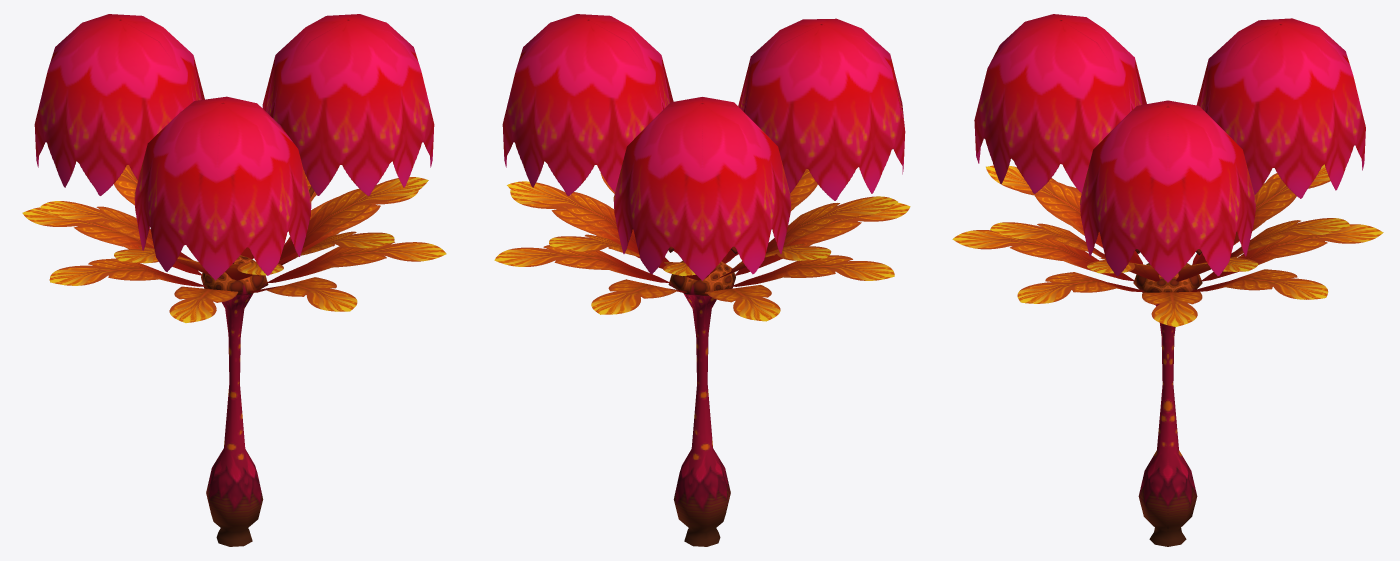
The model's file is Red_Tree_03b.FBX.
The picture shows the model from 3 angles, left to right: view 1: azimuth 30°, elevation 25°; view 2: azimuth 150°, elevation 25°; view 3: azimuth 270°, elevation 25°; orthographic projection.
Parts seen in each view (by area): view 1: Red_Tree_03b; view 2: Red_Tree_03b; view 3: Red_Tree_03b.
Boxes of the visible parts, <box> form: Red_Tree_03b: <box>22,14,446,546</box>; Red_Tree_03b: <box>494,14,910,546</box>; Red_Tree_03b: <box>952,14,1383,546</box>.
Bounding box in the file's own units: 268 × 331 × 268.
